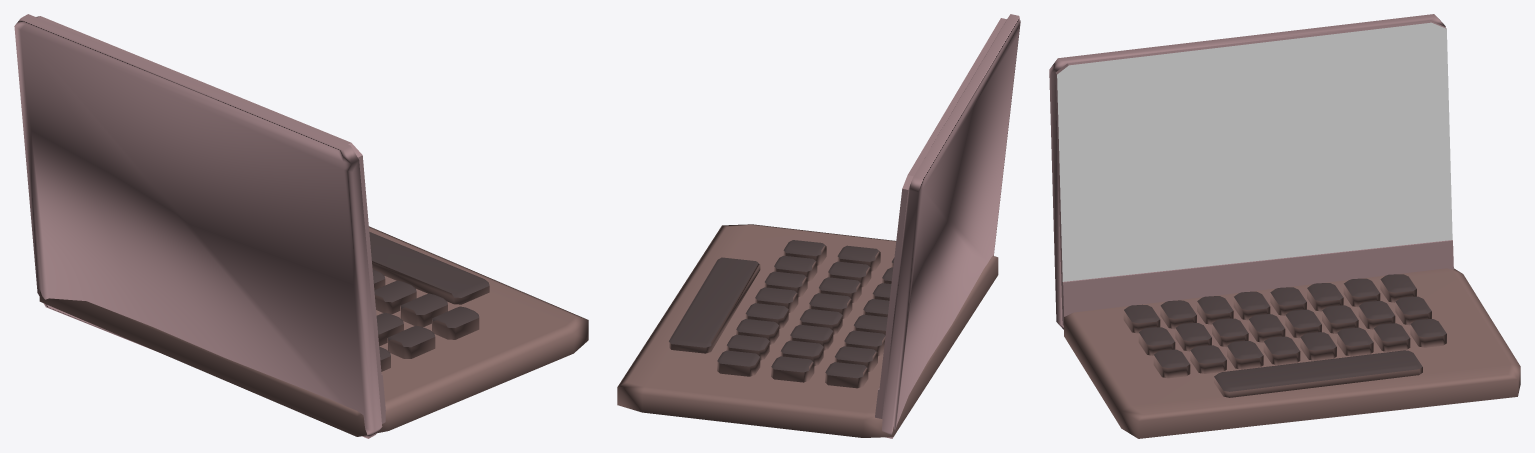
3 views of the same model, side by side, from view 1: azimuth 30°, elevation 25°; view 2: azimuth 150°, elevation 25°; view 3: azimuth 270°, elevation 25° (orthographic). The views are drawn at different scales.
Visible parts, largest first — view 1: pCube9.002; view 2: pCube9.002; view 3: pCube9.002.
Part boxes in pixels (x1,y1,x2,y2): pCube9.002: (14, 14, 588, 438); pCube9.002: (617, 14, 1020, 438); pCube9.002: (1049, 14, 1520, 438).
Size of the model in its own units: 68.01 by 49.14 by 80.09.
